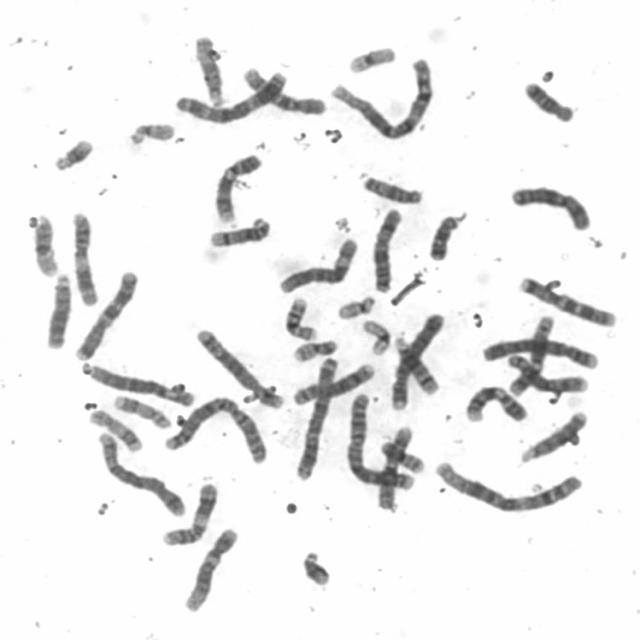A1: (324, 51, 437, 141), (428, 454, 586, 515)
A2: (159, 390, 270, 465), (340, 387, 419, 492)
A3: (168, 64, 290, 125), (288, 350, 342, 482)
B4: (384, 306, 447, 412), (475, 331, 602, 370)
B5: (91, 426, 189, 518), (190, 322, 285, 409)
C10: (236, 61, 329, 117), (370, 419, 416, 511)
C11: (157, 477, 220, 548), (66, 205, 101, 307)
C12: (179, 521, 240, 614), (370, 419, 416, 511)
C6: (80, 358, 198, 408), (272, 232, 362, 296)
C7: (68, 264, 141, 362), (512, 270, 620, 328)
C8: (287, 356, 378, 406), (502, 349, 590, 393)
C9: (208, 147, 265, 224), (458, 379, 530, 425)
D13: (512, 405, 590, 465), (40, 267, 74, 351)
D14: (387, 329, 441, 396), (202, 211, 274, 248)
D15: (188, 28, 229, 108), (354, 167, 424, 206)
E16: (26, 208, 60, 278), (278, 290, 320, 342)
E17: (84, 404, 145, 453), (108, 389, 172, 430)
E18: (517, 74, 577, 124), (423, 206, 468, 262)
F19: (342, 39, 399, 75), (356, 314, 392, 356)
F20: (378, 440, 430, 476), (286, 333, 340, 363)
G21: (46, 131, 96, 173), (295, 544, 332, 588)
G22: (121, 115, 177, 147), (330, 290, 378, 320)
X: (504, 179, 595, 232), (506, 314, 560, 396), (366, 202, 405, 294)
